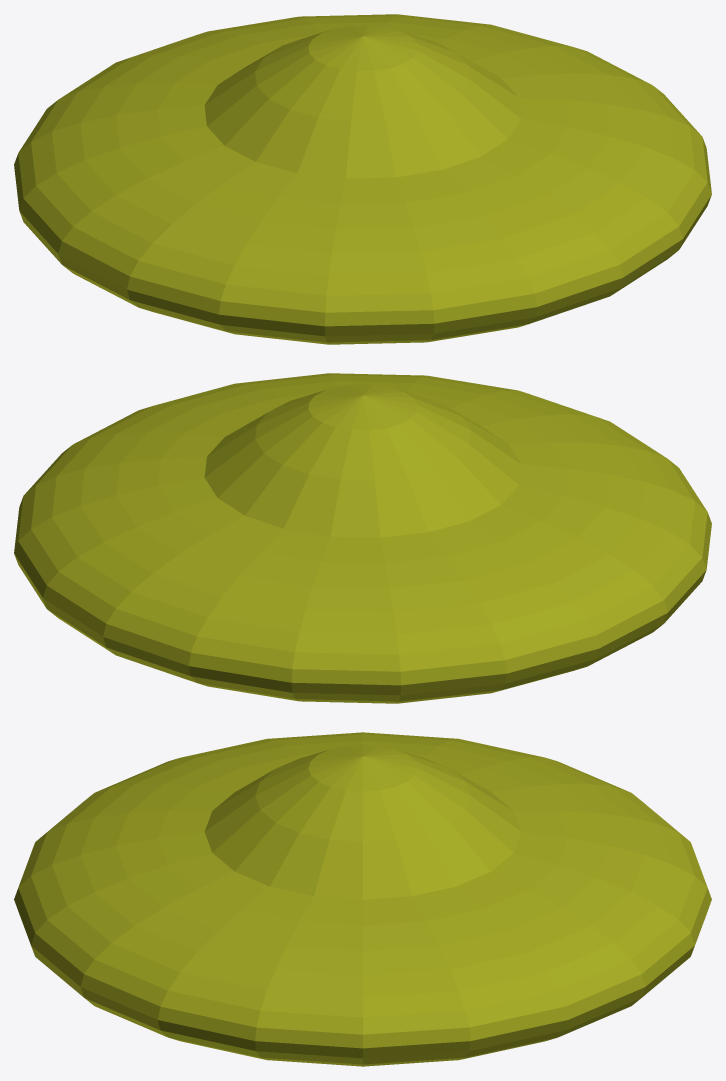
The model's file is Alien_Spaceship1.fbx.
The picture shows the model from 3 angles, top to bottom: view 1: azimuth 30°, elevation 25°; view 2: azimuth 150°, elevation 25°; view 3: azimuth 270°, elevation 25°; orthographic projection.
Parts seen in each view (by area): view 1: Alien_Spaceship; view 2: Alien_Spaceship; view 3: Alien_Spaceship.
Part boxes in pixels (x1,y1,x2,y2): Alien_Spaceship: (14,14,711,344); Alien_Spaceship: (14,373,711,703); Alien_Spaceship: (14,732,711,1066).
Bounding box in the file's own units: 118 × 117 × 40.64.
